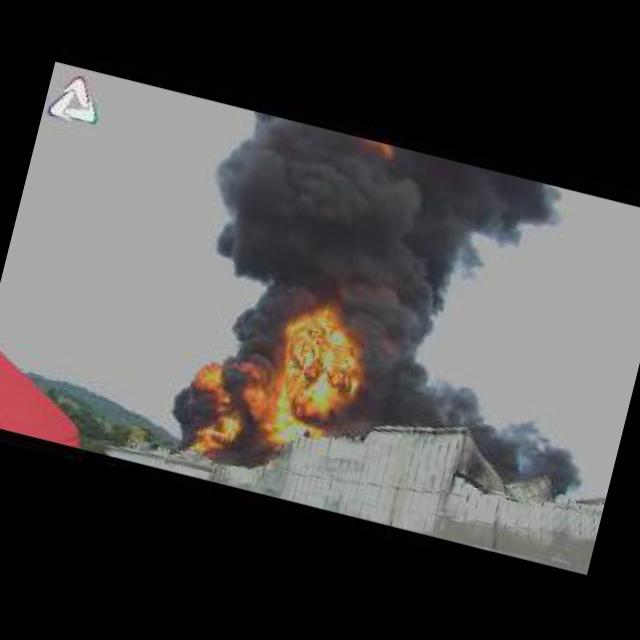fire: (258, 300, 370, 458), (176, 349, 257, 463)
smoke: (178, 101, 572, 372), (346, 356, 594, 493)
